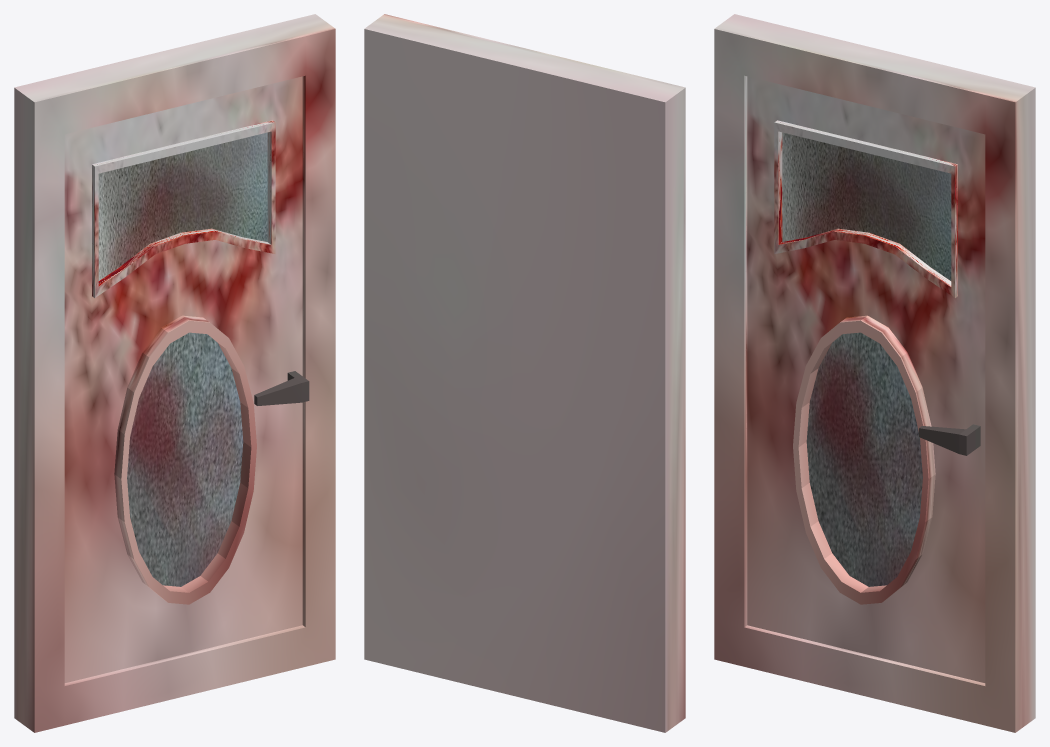
Rendered from Puerta_25.fbx.
3 renders of one model, left to right at view 1: azimuth 30°, elevation 25°; view 2: azimuth 150°, elevation 25°; view 3: azimuth 330°, elevation 25°, orthographic.
Parts seen in each view (by area): view 1: Cube.025; view 2: Cube.025; view 3: Cube.025.
Boxes of the visible parts, x1,y1,x2,y2 form: Cube.025: [14, 14, 335, 732]; Cube.025: [364, 14, 685, 732]; Cube.025: [714, 14, 1035, 732].
Size of the model in its own units: 200 by 400 by 36.09.
